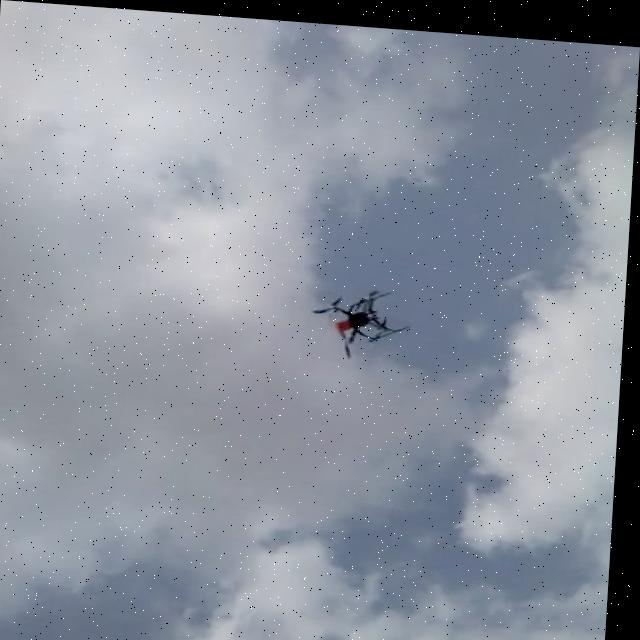drone: (306, 280, 416, 360)
